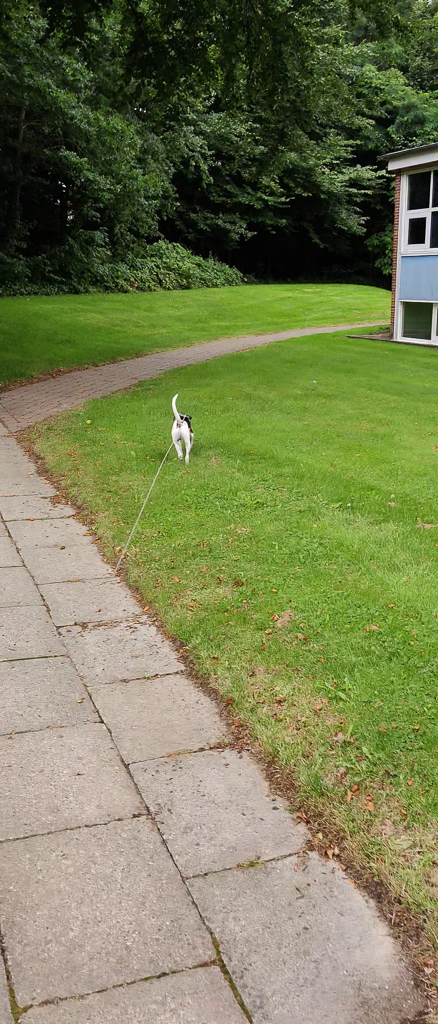Dog: (164, 387, 200, 469)
